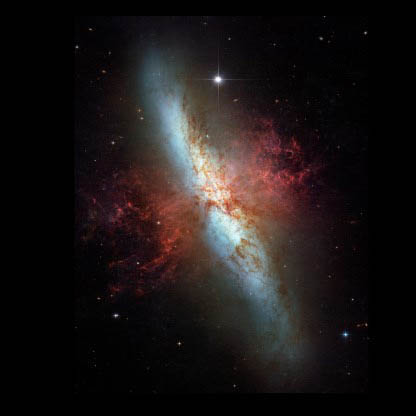Messier 82: (97, 44, 346, 373)
